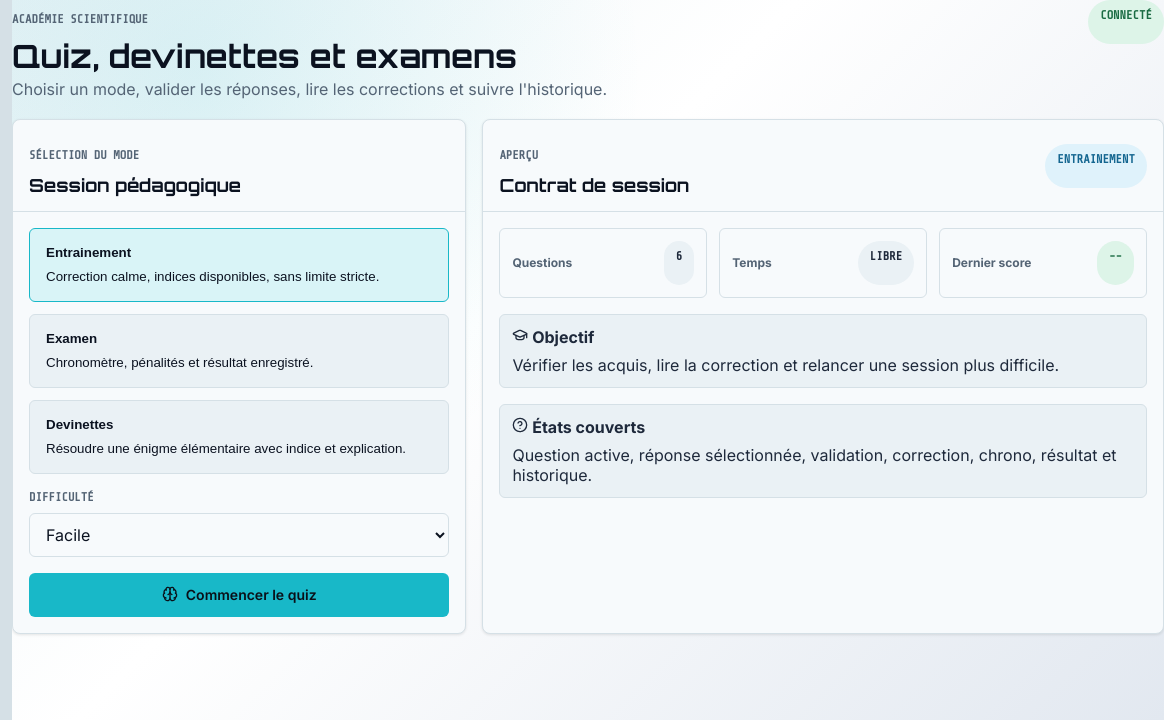
QuizMode › shows a save error when local history cannot be persisted
The image size is (1164, 720).
What coordinates should you click on to do the following:
click the button "Commencer le quiz"
I would click on:
 (239, 595)
Its box is [29,573,449,617].
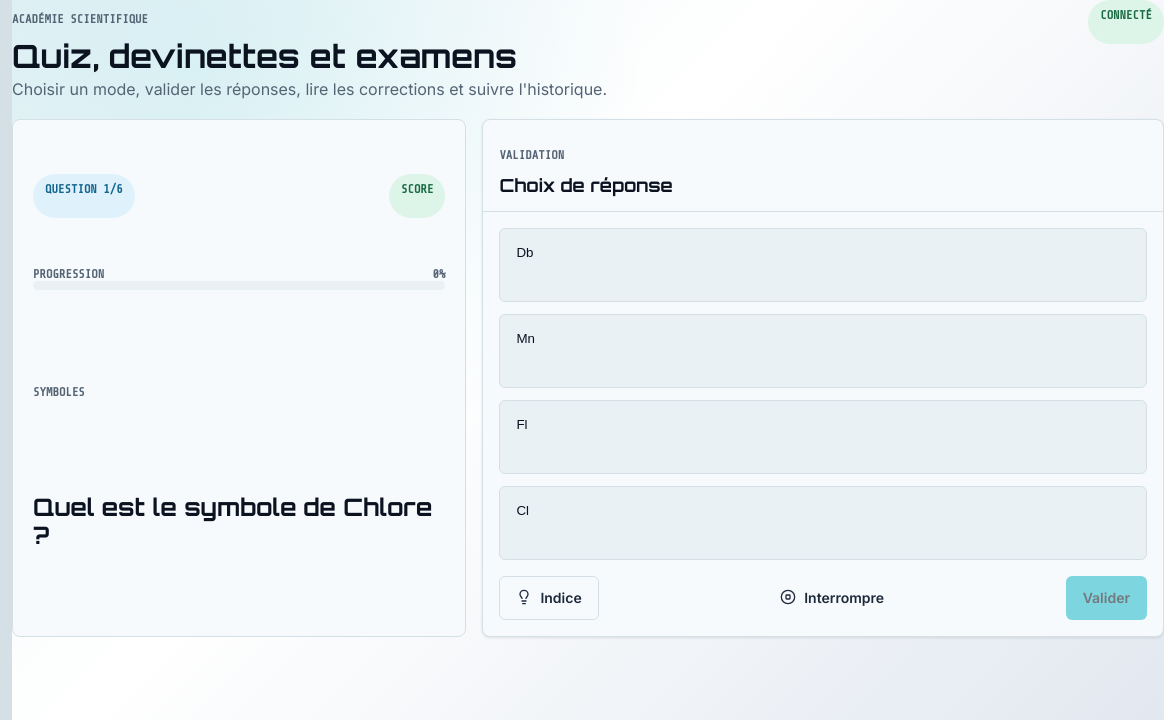
What coordinates should you click on to do the following:
click the button "Interrompre"
I would click on:
 (832, 598)
Its box is [763,576,901,620].
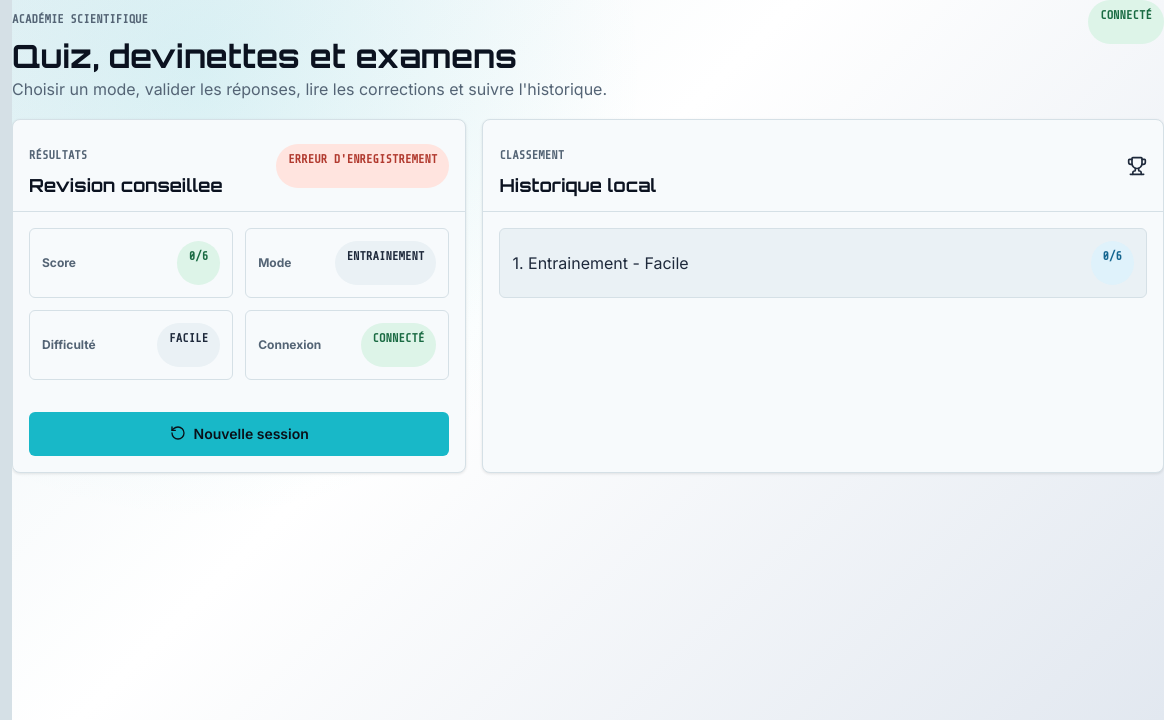
Check: the text "Erreur d'enregistrement" is shown, box [276,144,449,188]
